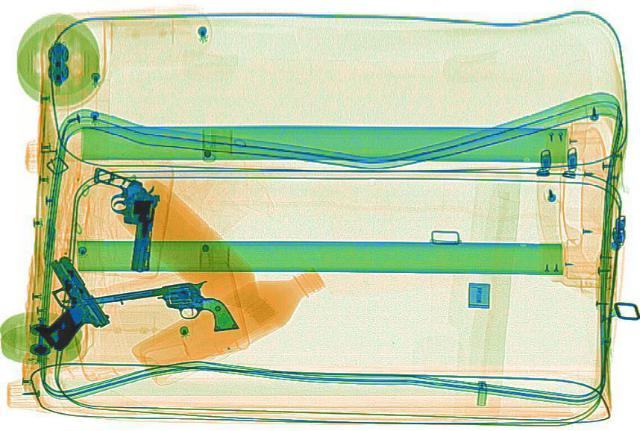Gun: (81, 278, 237, 343), (0, 258, 117, 344), (89, 167, 159, 270)
